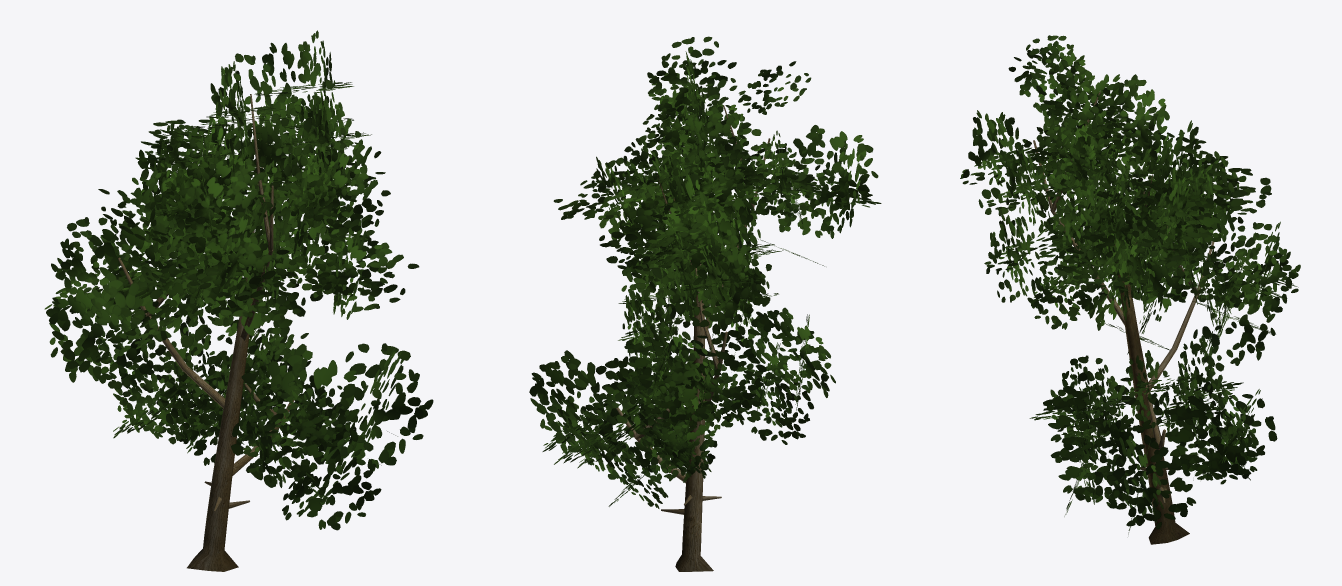
The model's file is env_tree_shade_mature_02.glb.
3 renders of one model, left to right at view 1: azimuth 30°, elevation 25°; view 2: azimuth 150°, elevation 25°; view 3: azimuth 270°, elevation 25°, orthographic. The views are drawn at different scales.
Parts seen in each view (by area): view 1: tree_shade_mature_02; view 2: tree_shade_mature_02; view 3: tree_shade_mature_02.
Part boxes in pixels (x1,y1,x2,y2): tree_shade_mature_02: [44, 30, 433, 571]; tree_shade_mature_02: [529, 36, 881, 571]; tree_shade_mature_02: [960, 35, 1300, 544].
Bounding box in the file's own units: 4.85 × 6.28 × 4.27.
2 materials, 2 textured.
